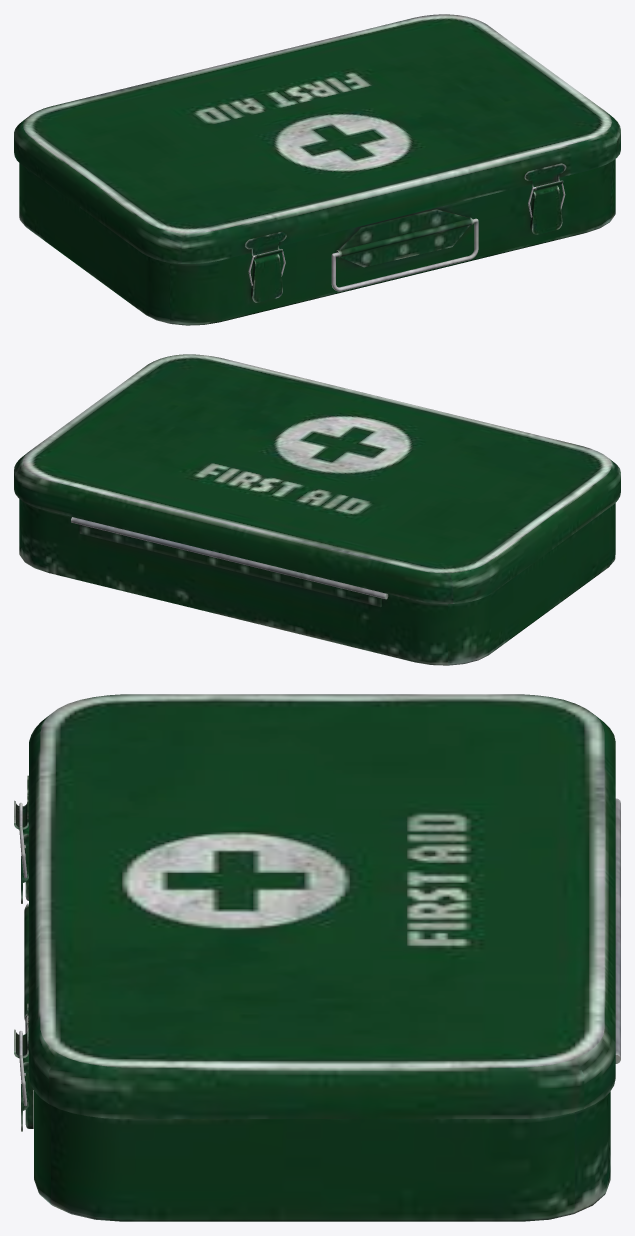
Rendered from medical_box.glb.
The picture shows the model from 3 angles, top to bottom: view 1: azimuth 30°, elevation 25°; view 2: azimuth 150°, elevation 25°; view 3: azimuth 270°, elevation 25°; orthographic projection. The views are drawn at different scales.
Parts seen in each view (by area): view 1: medical_box_lid, medical_box, medical_box_latch, medical_box_handle; view 2: medical_box_lid, medical_box; view 3: medical_box_lid, medical_box.
Part boxes in pixels (left/top/right/bottom): medical_box_lid: left=14, top=14, right=620, bottom=263; medical_box: left=19, top=159, right=615, bottom=325; medical_box_latch: left=251, top=185, right=562, bottom=302; medical_box_handle: left=331, top=218, right=478, bottom=291; medical_box_lid: left=14, top=354, right=620, bottom=603; medical_box: left=19, top=499, right=615, bottom=665; medical_box_lid: left=14, top=694, right=615, bottom=1118; medical_box: left=24, top=798, right=620, bottom=1221.
Size of the model in its own units: 0.5255 by 0.0975 by 0.3502.
Materials: 1 (1 with a texture image).
